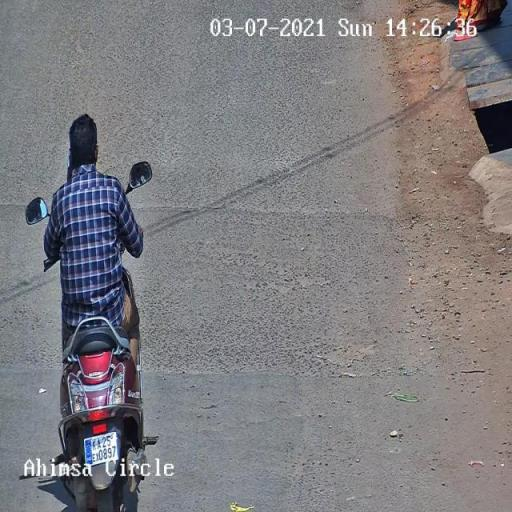numberplate: (82, 432, 123, 470)
using mobile: (64, 146, 74, 184)
